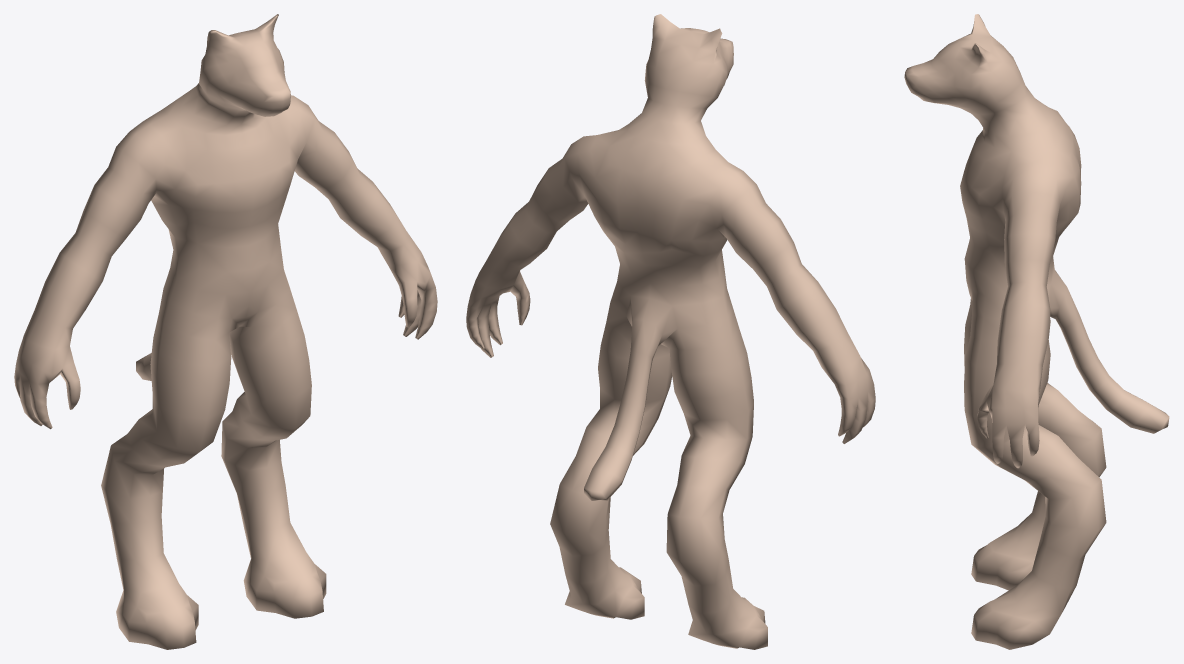
The model's file is TEST_Character.fbx.
3 renders of one model, left to right at view 1: azimuth 30°, elevation 25°; view 2: azimuth 150°, elevation 25°; view 3: azimuth 270°, elevation 25°, orthographic. The views are drawn at different scales.
Visible parts, largest first — view 1: MonsterWolfman:wolfman; view 2: MonsterWolfman:wolfman; view 3: MonsterWolfman:wolfman.
Boxes of the visible parts, x1,y1,x2,y2 form: MonsterWolfman:wolfman: (14, 14, 437, 649); MonsterWolfman:wolfman: (466, 14, 875, 649); MonsterWolfman:wolfman: (904, 14, 1169, 649).
Size of the model in its own units: 148 by 214 by 89.53.
